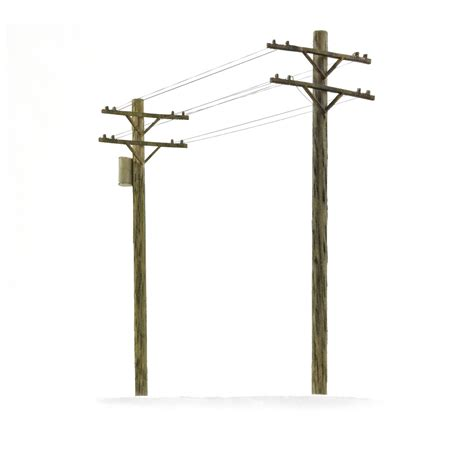pole: (94, 87, 200, 406)
